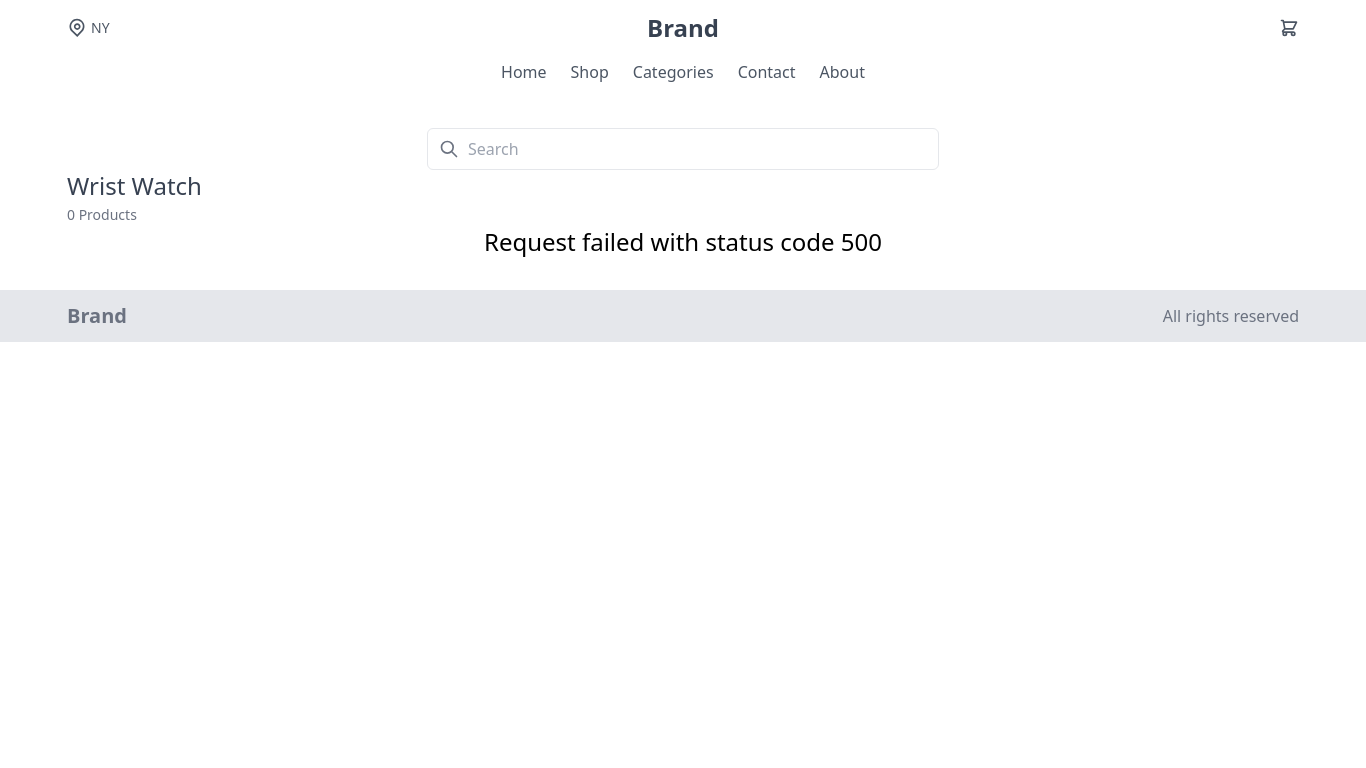
Test: Store › Store > Shopping Cart › should display "Cart is empty" when there are no products
Click the button with test id "toggle-cart" at (1289, 28), box [1279,18,1299,38]
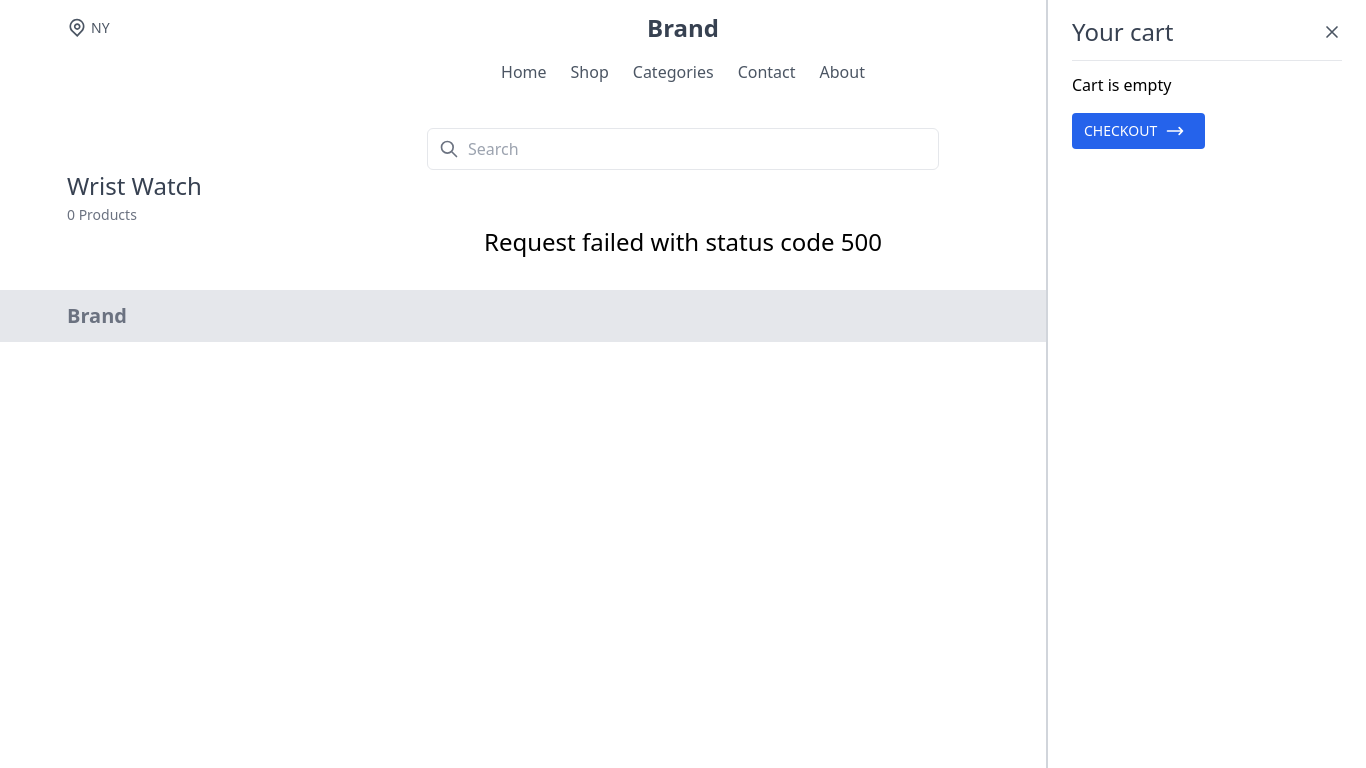
expect the heading "Cart is empty" is shown: met, box [1072,74,1171,96]
